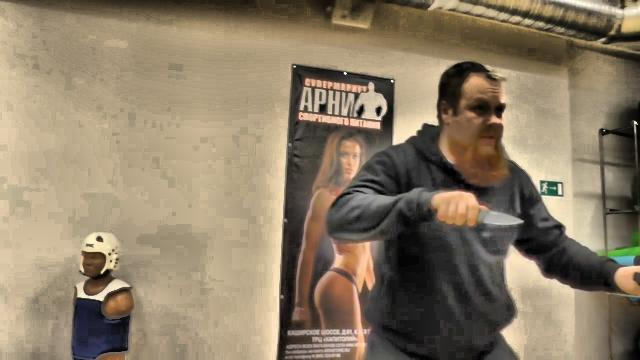knife: (448, 189, 528, 229)
